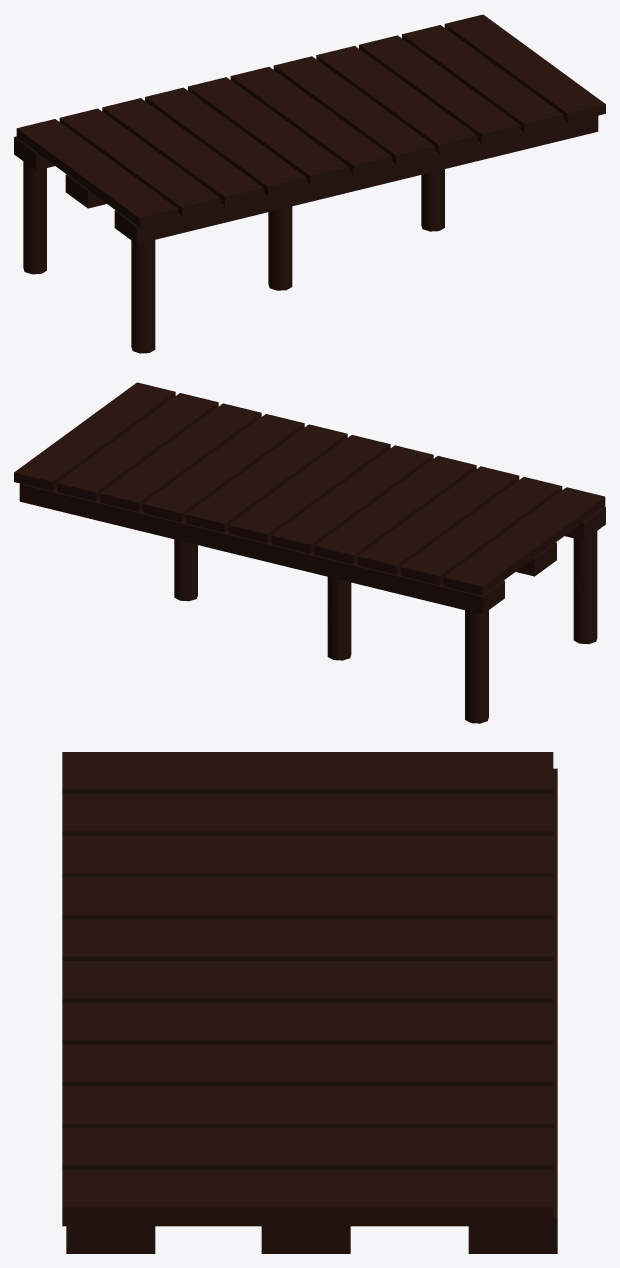
The model's file is ponton.FBX.
3 renders of one model, top to bottom at view 1: azimuth 30°, elevation 25°; view 2: azimuth 150°, elevation 25°; view 3: azimuth 270°, elevation 25°, orthographic. The views are drawn at different scales.
Visible parts, largest first — view 1: Box011, Box012, Cylinder005, Cylinder006, Cylinder001, Cylinder004, Box014, Box013; view 2: Box011, Box013, Cylinder006, Cylinder005, Cylinder002, Cylinder003, Box012, Box014; view 3: Box011, Box013, Box012, Box014.
Part boxes in pixels (x1,y1,x2,y2): Box011: [16, 14, 605, 227]; Box012: [114, 116, 598, 243]; Cylinder005: [131, 240, 155, 353]; Cylinder006: [23, 161, 46, 274]; Cylinder001: [268, 206, 292, 290]; Cylinder004: [421, 169, 444, 231]; Box014: [65, 174, 106, 208]; Box013: [14, 136, 54, 170]; Box011: [14, 382, 605, 595]; Box013: [19, 483, 504, 614]; Cylinder006: [465, 610, 488, 723]; Cylinder005: [573, 531, 597, 644]; Cylinder002: [327, 577, 351, 660]; Cylinder003: [174, 539, 197, 601]; Box012: [565, 506, 605, 540]; Box014: [516, 542, 556, 576]; Box011: [62, 752, 553, 1226]; Box013: [468, 768, 557, 1253]; Box012: [66, 1226, 155, 1253]; Box014: [261, 1226, 350, 1253].
Bounding box in the file's own units: 242 × 68.75 × 111.
